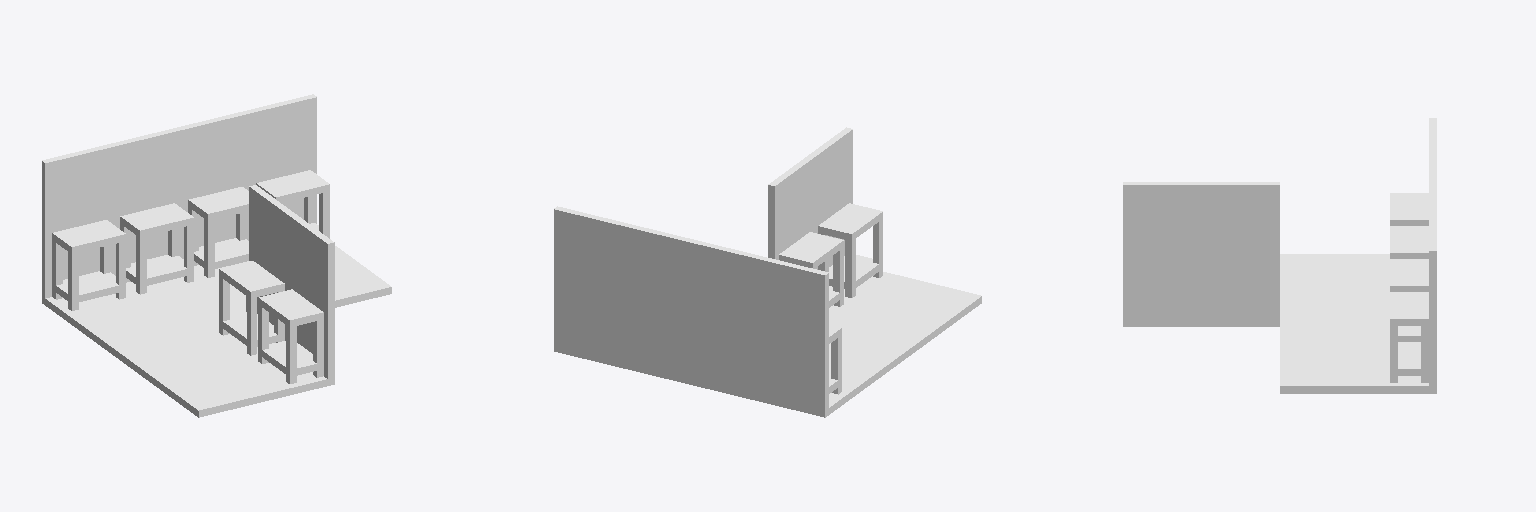
The model's file is level_three-1.obj.
The picture shows the model from 3 angles: view 1: azimuth 30°, elevation 25°; view 2: azimuth 150°, elevation 25°; view 3: azimuth 270°, elevation 25°; orthographic projection.
Visible parts, largest first — view 1: level_three-1; view 2: level_three-1; view 3: level_three-1.
Part boxes in pixels (x1,y1,x2,y2): level_three-1: (42, 94, 391, 417); level_three-1: (554, 127, 981, 417); level_three-1: (1123, 118, 1436, 393).
Bounding box in the file's own units: 40 × 20 × 40.